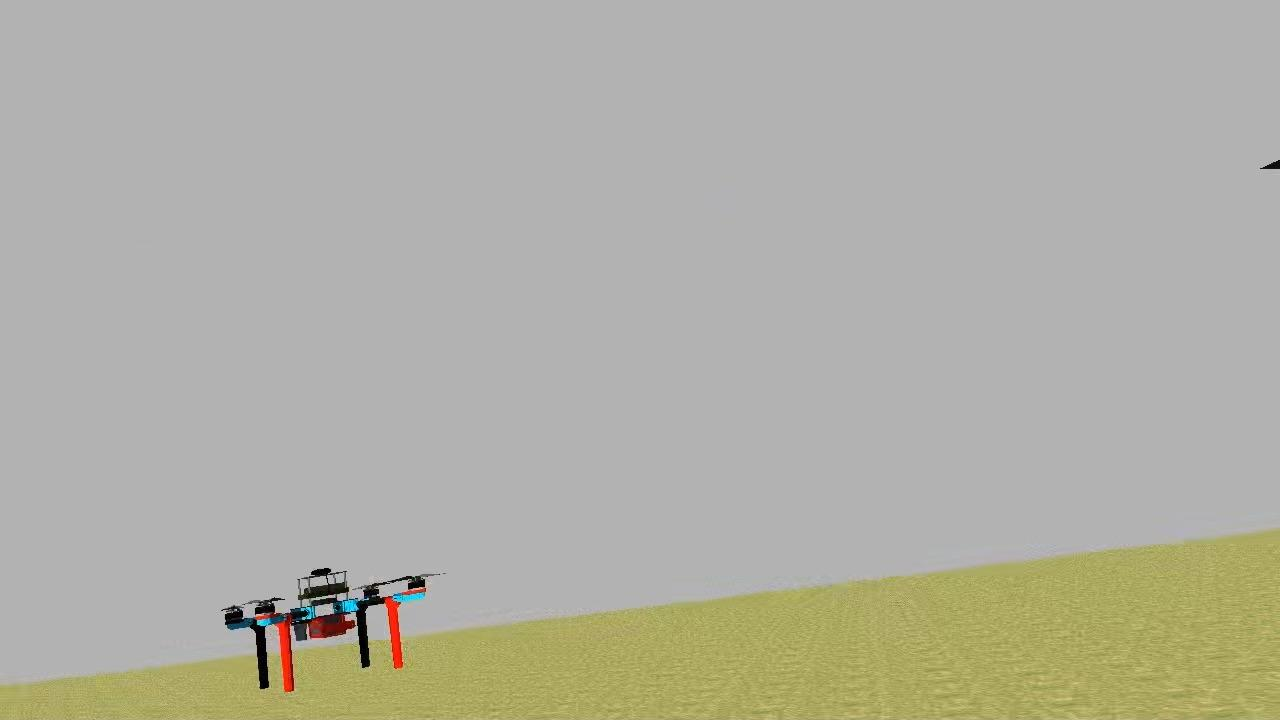UAV: (217, 554, 436, 699)
